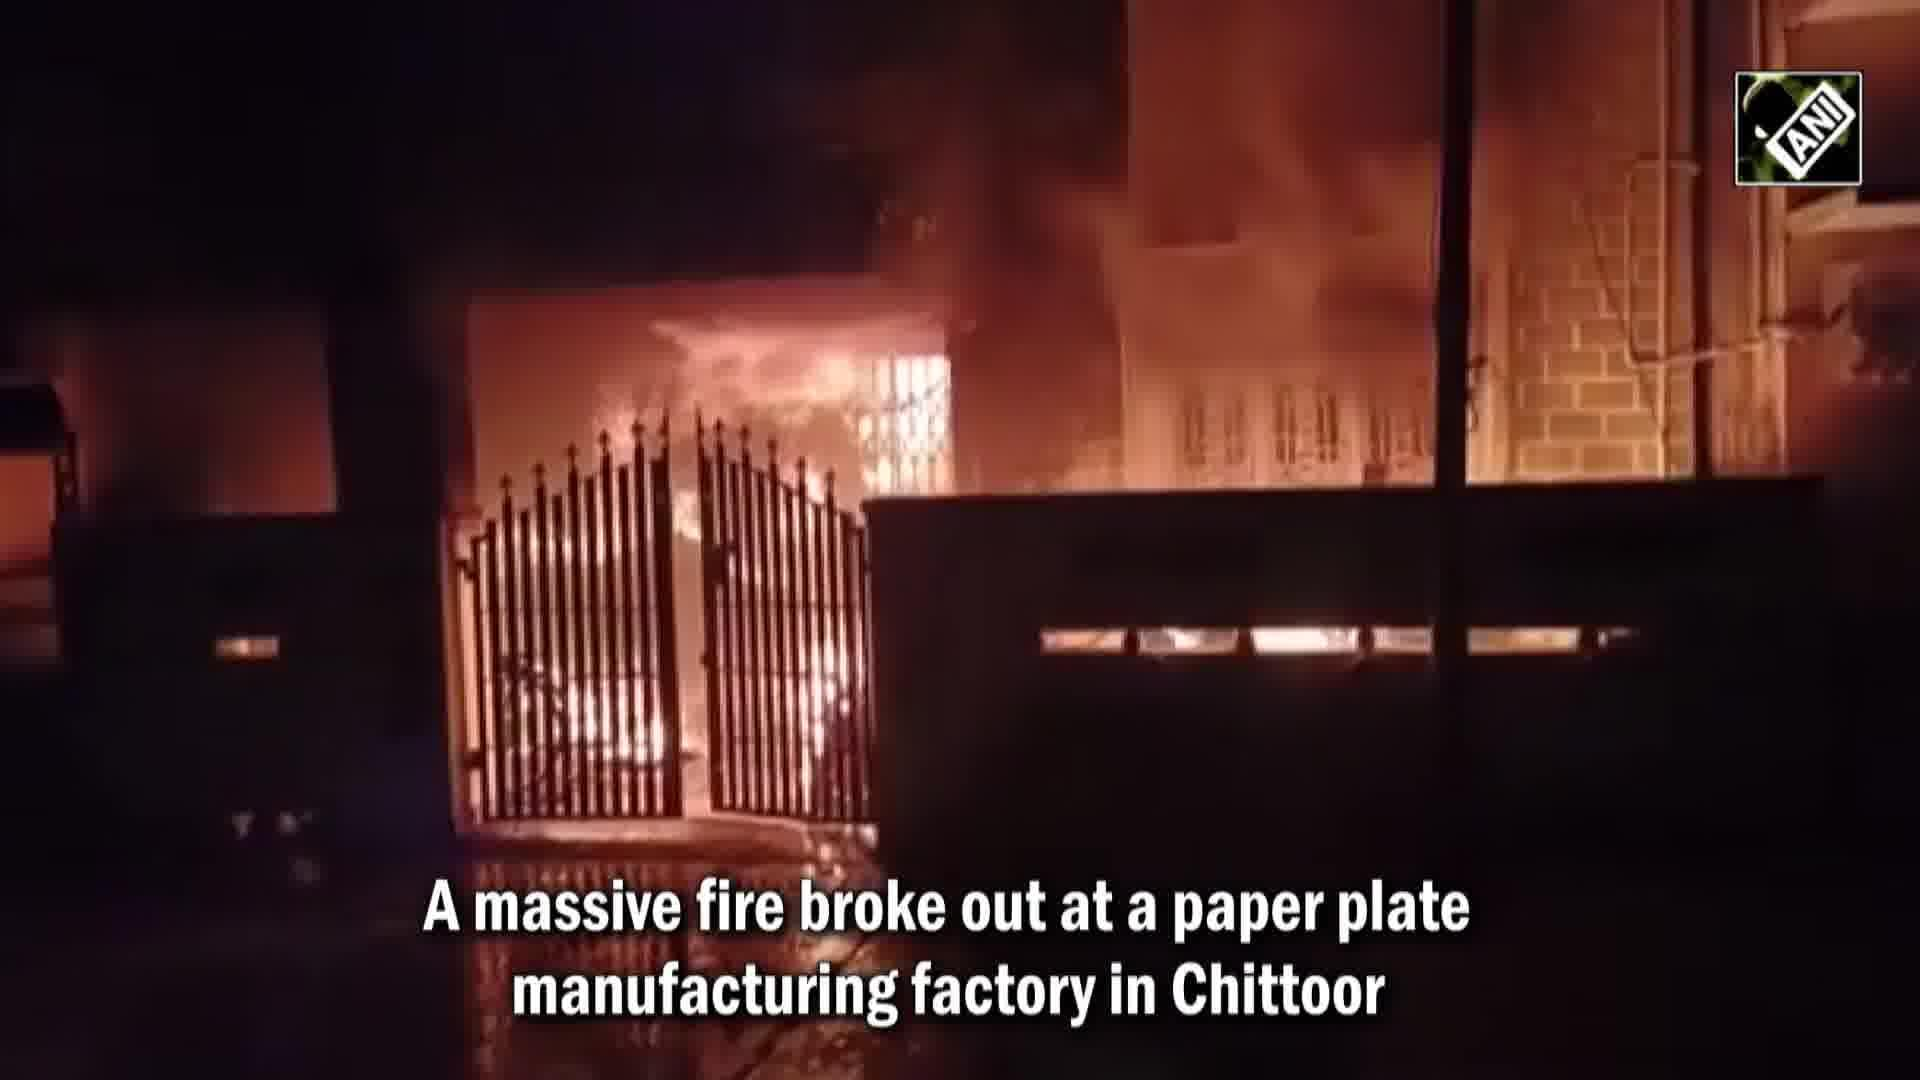fire: (533, 360, 873, 802)
